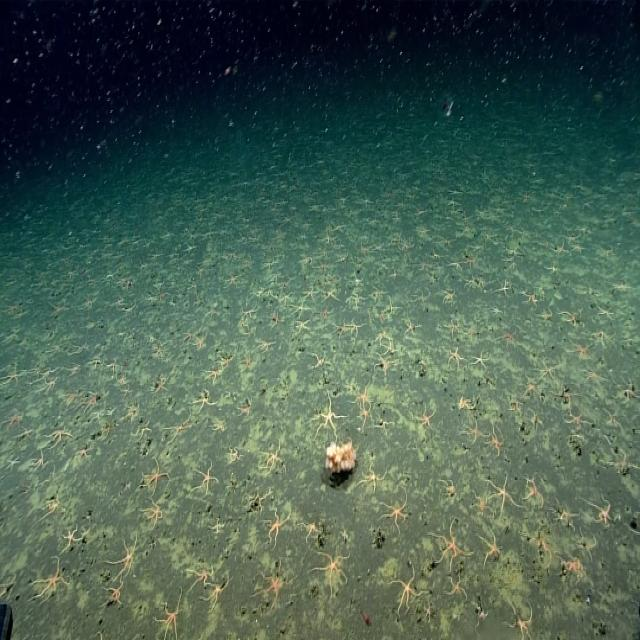brittle-stars: (432, 524, 469, 567), (34, 559, 68, 600), (258, 562, 288, 606), (597, 448, 640, 478), (390, 568, 420, 610), (316, 550, 349, 588), (314, 395, 342, 439), (506, 598, 535, 640), (158, 594, 184, 637), (381, 494, 409, 530), (487, 477, 515, 513), (266, 507, 292, 544), (141, 458, 169, 492), (202, 578, 230, 612), (112, 537, 138, 573), (587, 495, 613, 528), (262, 443, 286, 475), (553, 500, 577, 532), (165, 414, 192, 442), (195, 462, 218, 494), (479, 530, 502, 562), (61, 522, 84, 552), (188, 560, 212, 588), (562, 553, 584, 583), (361, 464, 383, 494), (143, 498, 164, 528), (534, 357, 558, 383), (307, 347, 331, 373), (105, 577, 128, 603), (462, 419, 483, 445), (48, 424, 74, 445), (487, 427, 505, 457), (1, 366, 24, 389), (526, 479, 544, 507), (44, 493, 64, 518), (564, 410, 587, 431), (301, 518, 322, 541), (194, 390, 218, 410), (447, 574, 467, 598), (582, 364, 602, 388), (592, 326, 614, 347), (234, 396, 254, 419), (471, 492, 490, 516), (417, 406, 436, 429), (569, 340, 590, 360), (354, 383, 371, 407), (522, 376, 539, 400), (359, 387, 376, 410), (470, 349, 489, 369), (375, 354, 394, 374), (499, 328, 517, 349), (83, 391, 101, 412), (560, 309, 578, 330), (448, 347, 465, 369), (152, 375, 169, 396), (204, 365, 223, 383), (457, 393, 476, 411), (201, 371, 220, 389), (5, 454, 22, 474), (348, 290, 366, 308), (241, 303, 259, 321), (404, 317, 420, 337), (228, 445, 244, 465), (370, 283, 386, 302), (357, 406, 372, 426), (496, 278, 511, 298), (75, 442, 90, 462), (293, 318, 310, 335), (303, 285, 319, 303), (318, 304, 334, 322), (446, 318, 462, 336), (258, 338, 276, 354), (269, 310, 285, 328), (337, 318, 351, 338), (423, 600, 435, 623), (349, 318, 363, 337), (240, 351, 254, 370), (322, 287, 338, 303), (194, 335, 208, 353), (279, 290, 294, 306), (227, 272, 241, 289), (466, 254, 480, 271), (120, 384, 131, 398), (117, 373, 127, 388), (120, 371, 130, 385)
